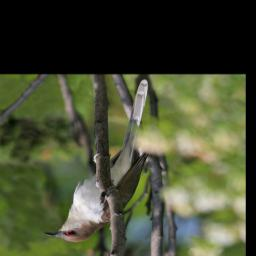Cuckoo: (42, 78, 150, 244)
